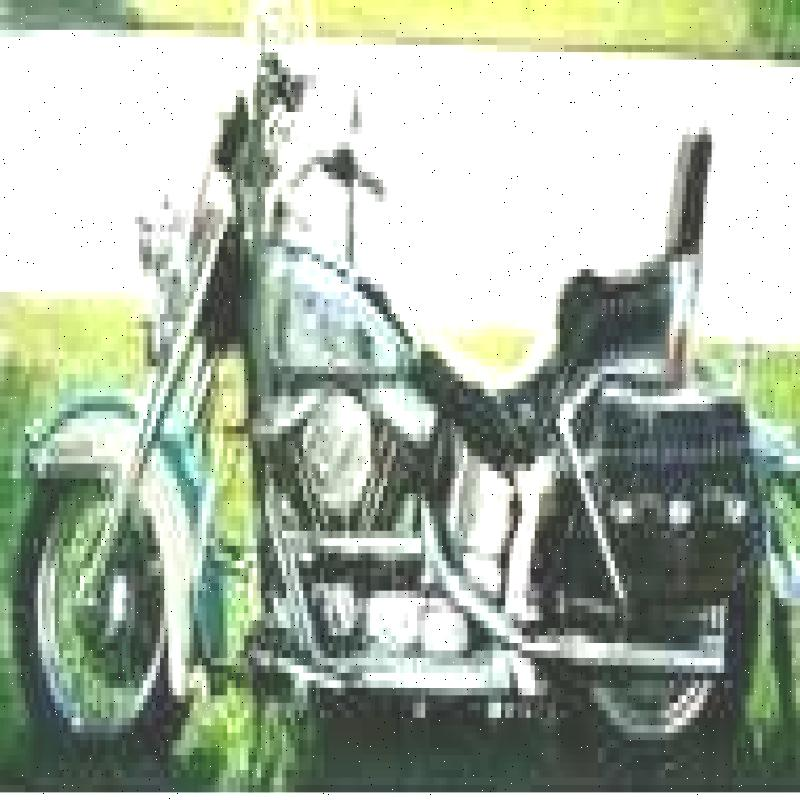bike: (8, 33, 752, 794)
